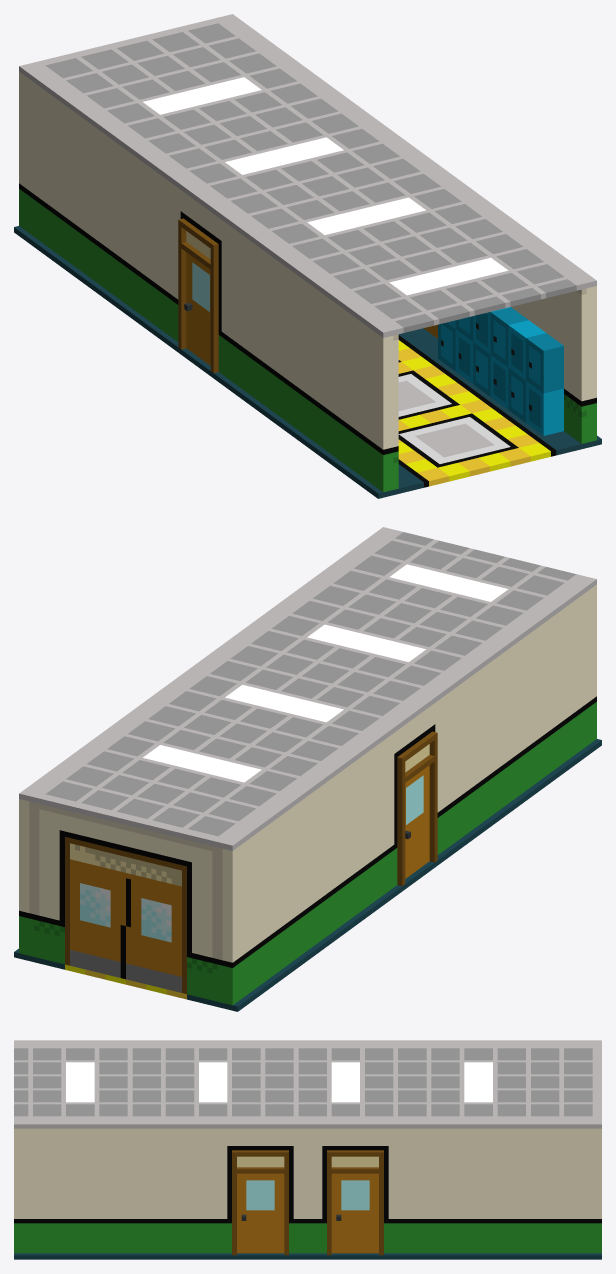
Rendered from Escenario_Escuela.glb.
The picture shows the model from 3 angles, top to bottom: view 1: azimuth 30°, elevation 25°; view 2: azimuth 150°, elevation 25°; view 3: azimuth 270°, elevation 25°; orthographic projection. The views are drawn at different scales.
Parts seen in each view (by area): view 1: Techo, Paredes, Piso, Casillero, Luces; view 2: Paredes, Techo, Luces, Piso; view 3: Paredes, Techo, Luces, Piso.
Boxes of the visible parts, box(x1,y1,x2,y2) form: Techo: box(19, 14, 596, 337); Paredes: box(19, 71, 596, 492); Piso: box(14, 226, 601, 498); Casillero: box(438, 307, 563, 435); Luces: box(143, 77, 508, 295); Paredes: box(19, 584, 596, 1005); Techo: box(19, 527, 596, 850); Luces: box(143, 564, 508, 782); Piso: box(14, 739, 601, 1011); Paredes: box(14, 1128, 601, 1255); Techo: box(14, 1040, 601, 1128); Luces: box(66, 1062, 492, 1102); Piso: box(14, 1253, 601, 1259).
Size of the model in its own units: 44 by 31 by 124.
2 materials, 2 textured.
